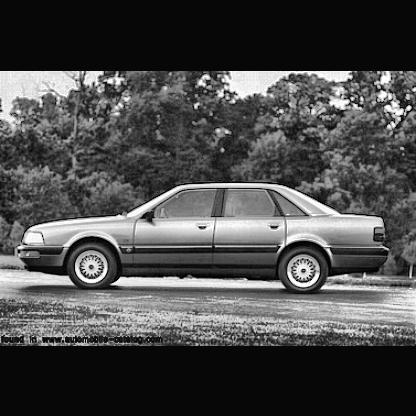Audi V8 Sedan 1994: (20, 186, 390, 293)
